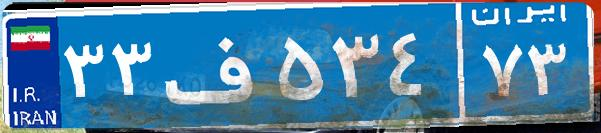3: (330, 28, 385, 110), (57, 26, 110, 107), (110, 28, 158, 105), (525, 38, 570, 115)
4: (385, 28, 445, 110)
5: (273, 28, 330, 110)
7: (475, 38, 525, 113)
ف: (158, 15, 273, 115)
